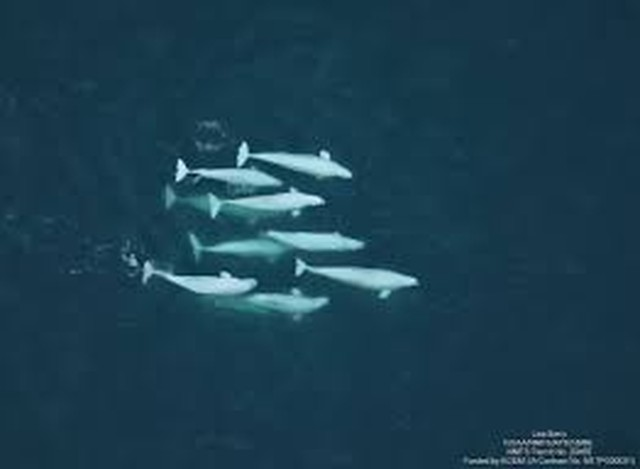whale: (220, 129, 374, 187), (282, 251, 431, 303), (169, 146, 290, 196), (139, 259, 268, 301), (181, 229, 309, 270), (206, 186, 335, 223), (259, 222, 378, 258)
